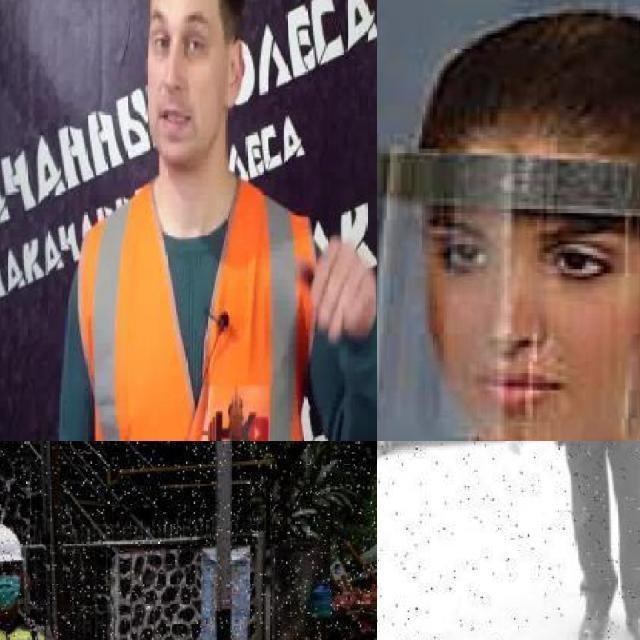apron: (500, 441, 526, 459)
